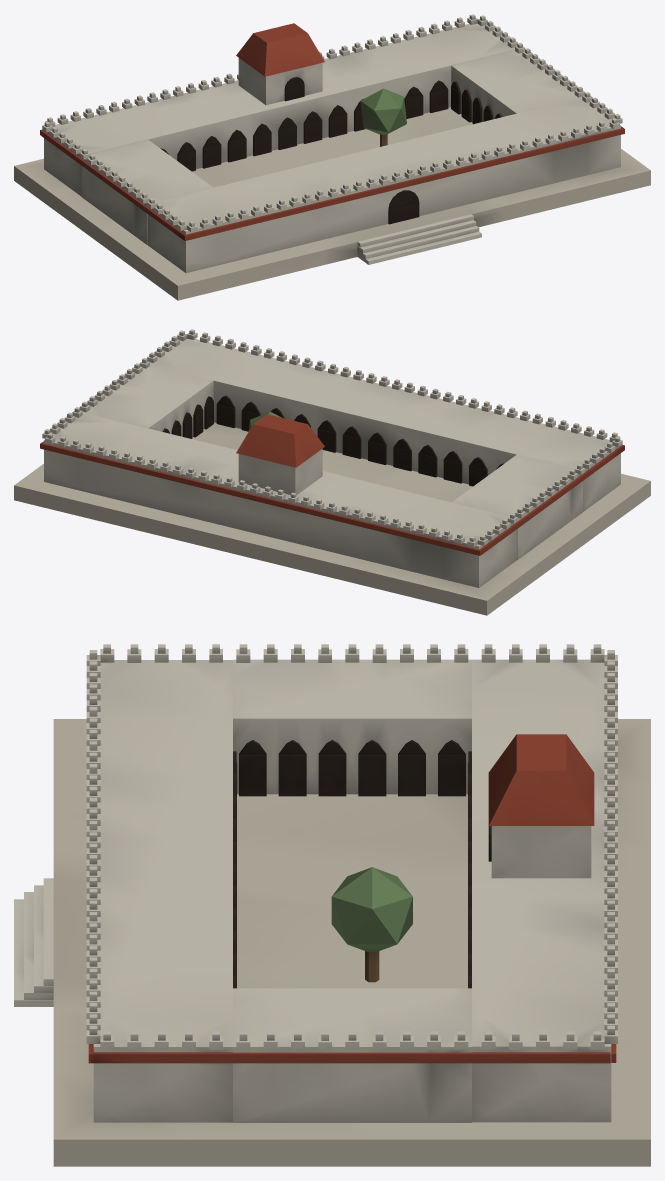
The model's file is calmecac.glb.
3 views of the same model, one above another, from view 1: azimuth 30°, elevation 25°; view 2: azimuth 150°, elevation 25°; view 3: azimuth 270°, elevation 25° (orthographic). The views are drawn at different scales.
Parts seen in each view (by area): view 1: p1_rooms, p0_platform, p2_roof; view 2: p1_rooms, p0_platform, p2_roof; view 3: p1_rooms, p0_platform, p2_roof.
Boxes of the visible parts, x1=… form: p1_rooms: x1=44, y1=23, x2=620, y2=272; p0_platform: x1=14, y1=107, x2=650, y2=300; p2_roof: x1=40, y1=14, x2=624, y2=240; p1_rooms: x1=44, y1=338, x2=620, y2=587; p0_platform: x1=14, y1=422, x2=650, y2=615; p2_roof: x1=40, y1=329, x2=624, y2=555; p1_rooms: x1=93, y1=659, x2=611, y2=1122; p0_platform: x1=14, y1=719, x2=650, y2=1166; p2_roof: x1=86, y1=644, x2=617, y2=1063.
Size of the model in its own units: 50 by 11.32 by 32.
